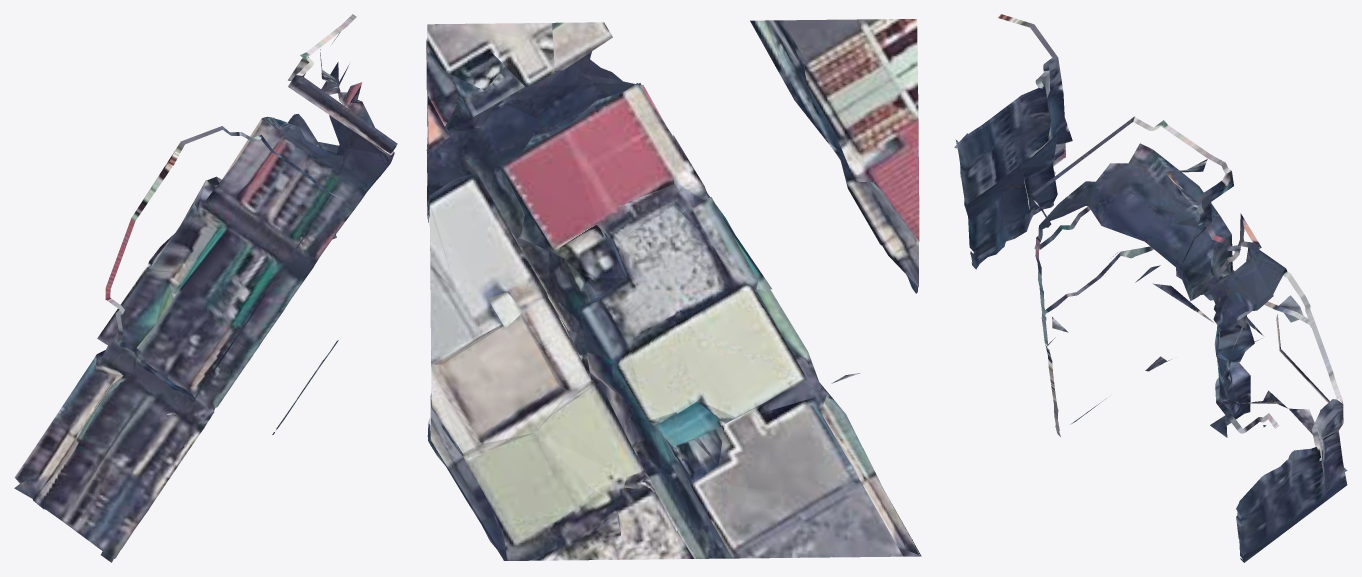
3 renders of one model, left to right at view 1: azimuth 30°, elevation 25°; view 2: azimuth 150°, elevation 25°; view 3: azimuth 270°, elevation 25°, orthographic. The views are drawn at different scales.
Size of the model in its own units: 38.84 by 40.26 by 32.36.
2 materials, 2 textured.
